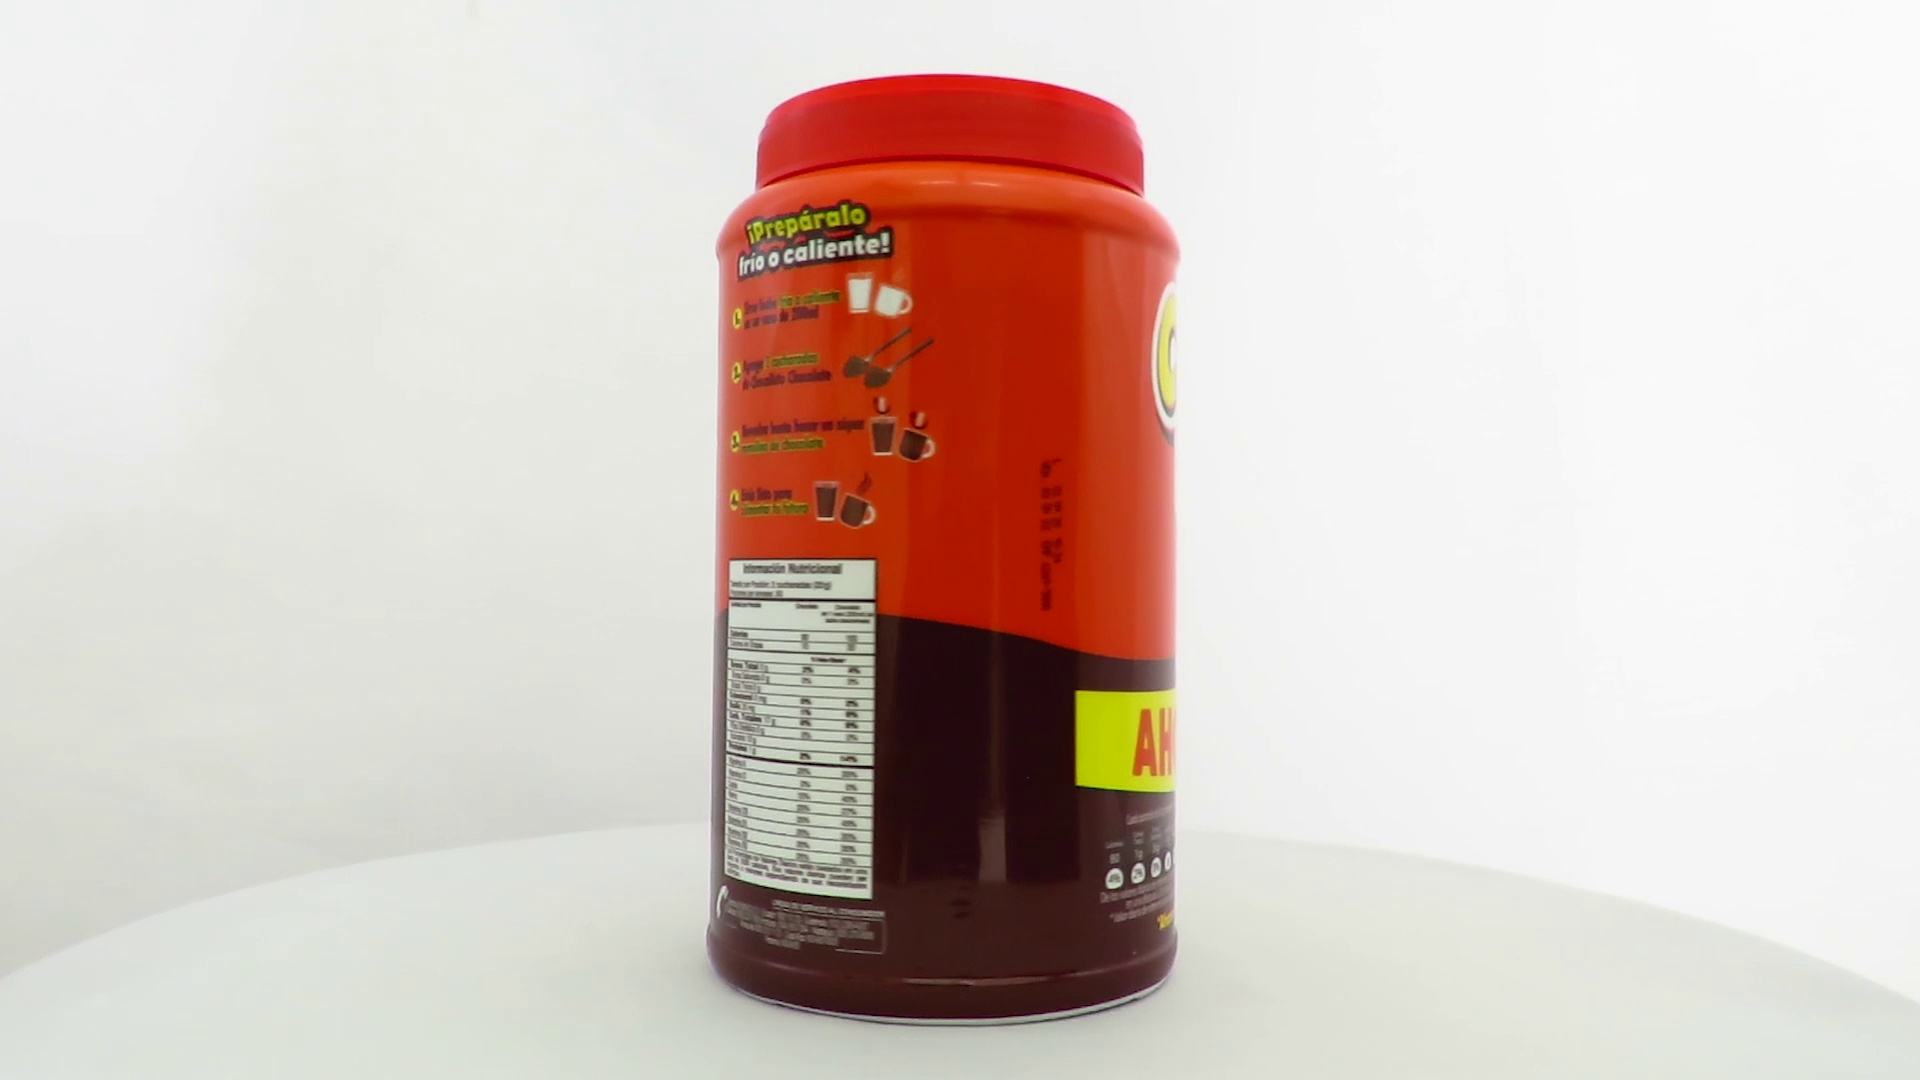COL0170103TRR00100: (702, 69, 1187, 1034)
